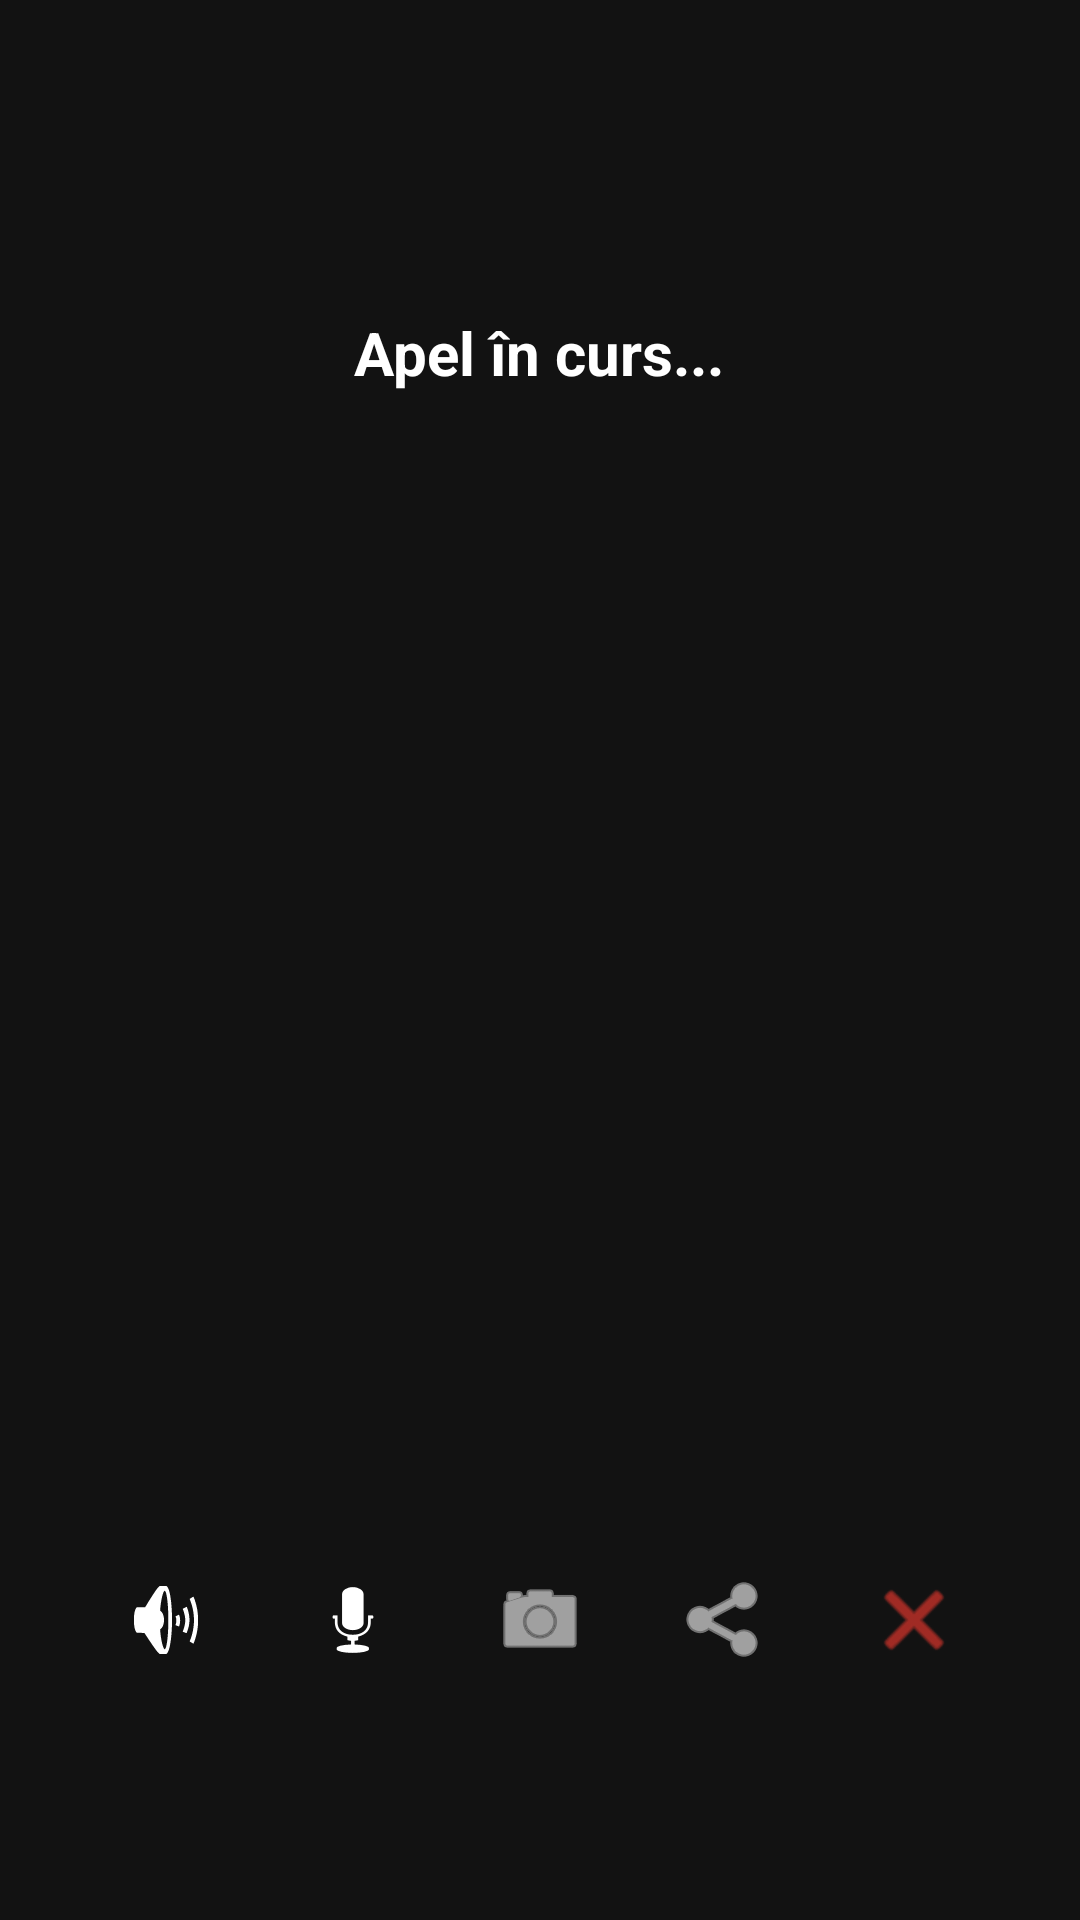

Icon click points for this 1080*1920 phone screenshot, format (x=x, y=y):
Camera: (x=540, y=1618)
Difuzor: (x=166, y=1620)
Microfon: (x=353, y=1620)
Închide apelul: (x=914, y=1620)
